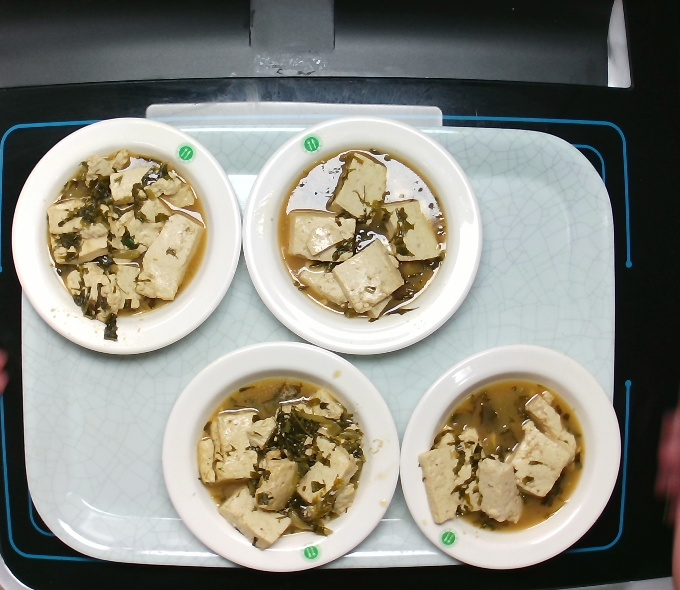wcq-XueCaiDouFu: (194, 368, 369, 553), (276, 142, 450, 323), (42, 143, 211, 322), (417, 365, 590, 535)
